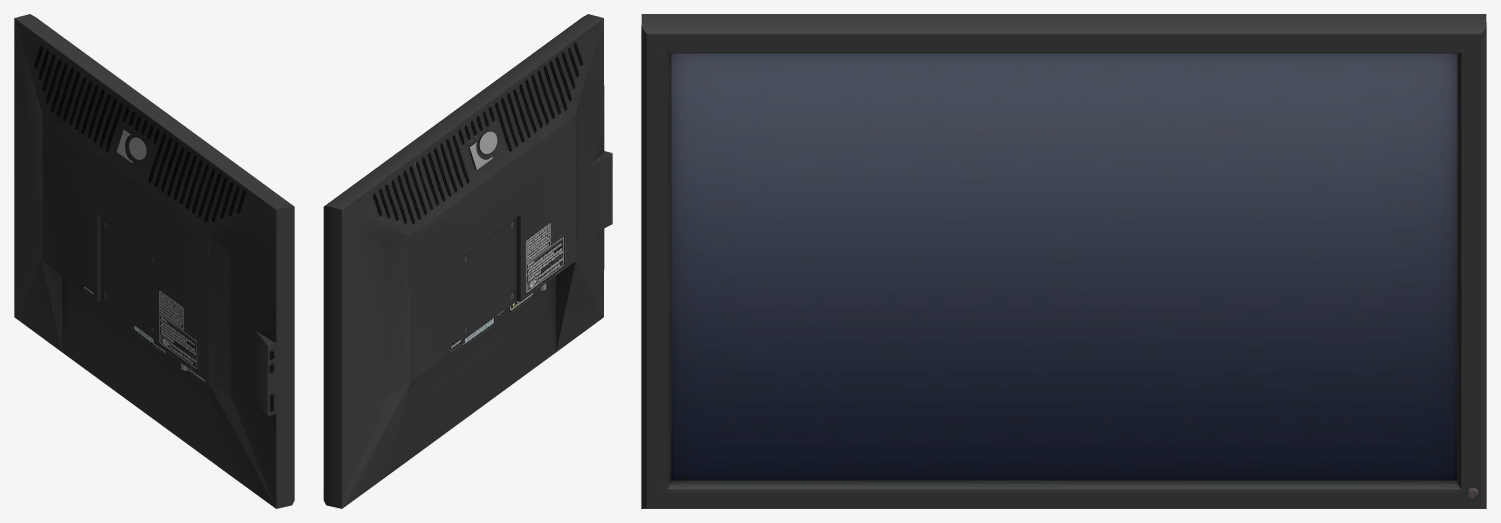
Rendered from tv_plasma.glb.
3 renders of one model, left to right at view 1: azimuth 30°, elevation 25°; view 2: azimuth 150°, elevation 25°; view 3: azimuth 270°, elevation 25°, orthographic. The views are drawn at different scales.
Visible parts, largest first — view 1: dmx/hr_tv_plasma_model.dmx_0; view 2: dmx/hr_tv_plasma_model.dmx_0; view 3: dmx/hr_tv_plasma_model.dmx_0.
Boxes of the visible parts, x1,y1,x2,y2 form: dmx/hr_tv_plasma_model.dmx_0: (14, 14, 294, 508); dmx/hr_tv_plasma_model.dmx_0: (323, 14, 612, 508); dmx/hr_tv_plasma_model.dmx_0: (641, 14, 1486, 508).
Bounding box in the file's own units: 0.1036 × 0.7201 × 1.14.
1 material, 1 textured.
